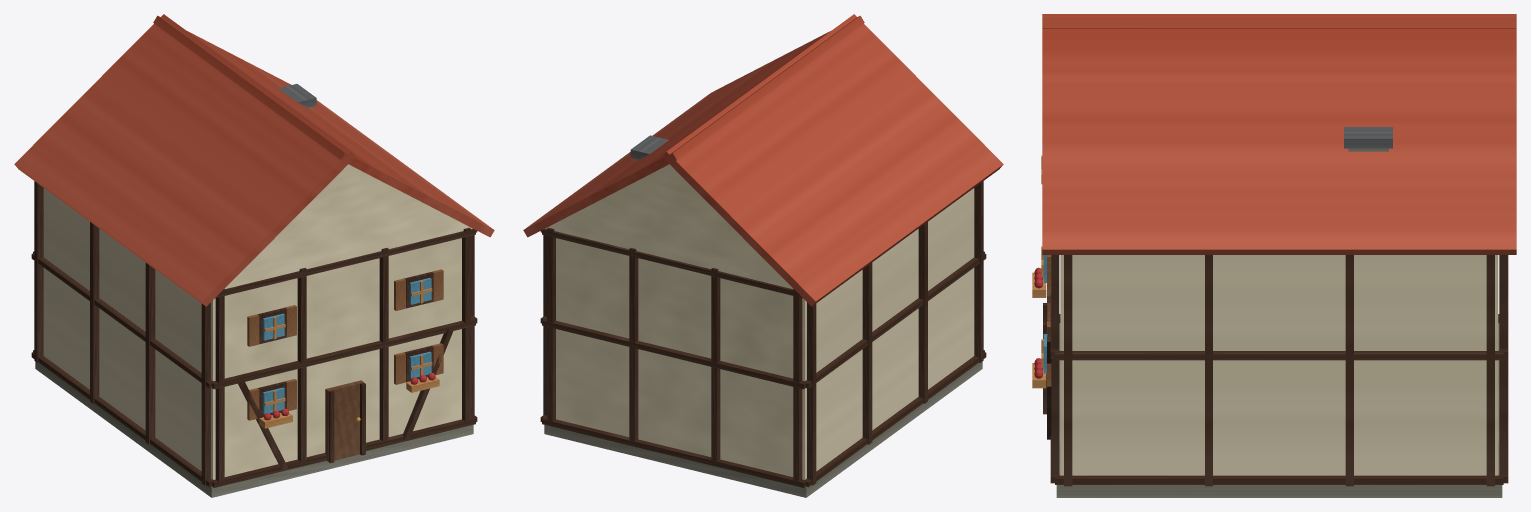
Rendered from huis_vakwerk_groot.glb.
3 views of the same model, side by side, from view 1: azimuth 30°, elevation 25°; view 2: azimuth 150°, elevation 25°; view 3: azimuth 270°, elevation 25° (orthographic). The views are drawn at different scales.
Parts seen in each view (by area): view 1: world; view 2: world; view 3: world.
Part boxes in pixels (x1,y1,x2,y2): world: (14,14,494,497); world: (523,14,1003,497); world: (1032,14,1516,497).
Size of the model in its own units: 6.7 by 6.96 by 7.61.
Materials: 1 (1 with a texture image).
